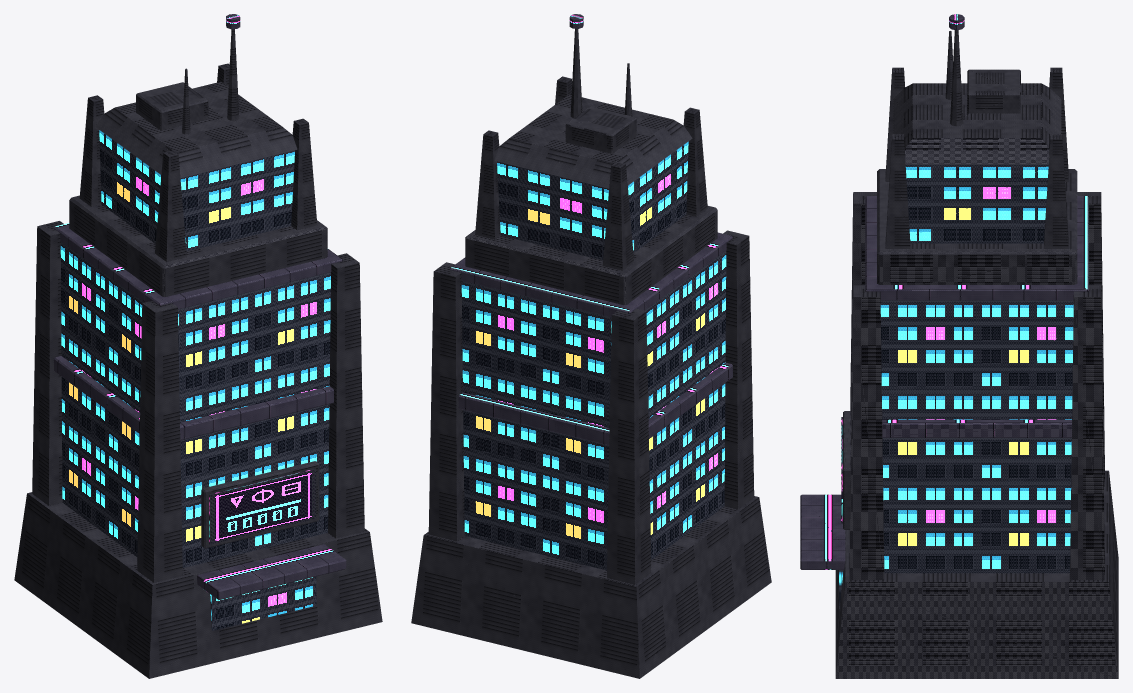
Rendered from alien_tower_building.glb.
The picture shows the model from 3 angles, left to right: view 1: azimuth 30°, elevation 25°; view 2: azimuth 150°, elevation 25°; view 3: azimuth 270°, elevation 25°; orthographic projection. The views are drawn at different scales.
Parts seen in each view (by area): view 1: alien_tower_building__city_roof_mech, alien_tower_building__city_skyscraper_facade, alien_tower_building__city_wall_neon, alien_tower_building__city_neon_sign; view 2: alien_tower_building__city_roof_mech, alien_tower_building__city_skyscraper_facade, alien_tower_building__city_wall_neon; view 3: alien_tower_building__city_roof_mech, alien_tower_building__city_skyscraper_facade, alien_tower_building__city_wall_neon.
Boxes of the visible parts, x1,y1,x2,y2 form: alien_tower_building__city_roof_mech: (14,29,382,678); alien_tower_building__city_skyscraper_facade: (60,130,330,630); alien_tower_building__city_wall_neon: (53,14,346,599); alien_tower_building__city_neon_sign: (209,468,316,544); alien_tower_building__city_roof_mech: (411,29,771,678); alien_tower_building__city_skyscraper_facade: (461,141,726,570); alien_tower_building__city_wall_neon: (450,14,733,445); alien_tower_building__city_roof_mech: (835,30,1118,678); alien_tower_building__city_skyscraper_facade: (839,164,1073,611); alien_tower_building__city_wall_neon: (800,14,1088,569).
Size of the model in its own units: 5.8 by 13.89 by 6.53.
4 materials, 4 textured.
